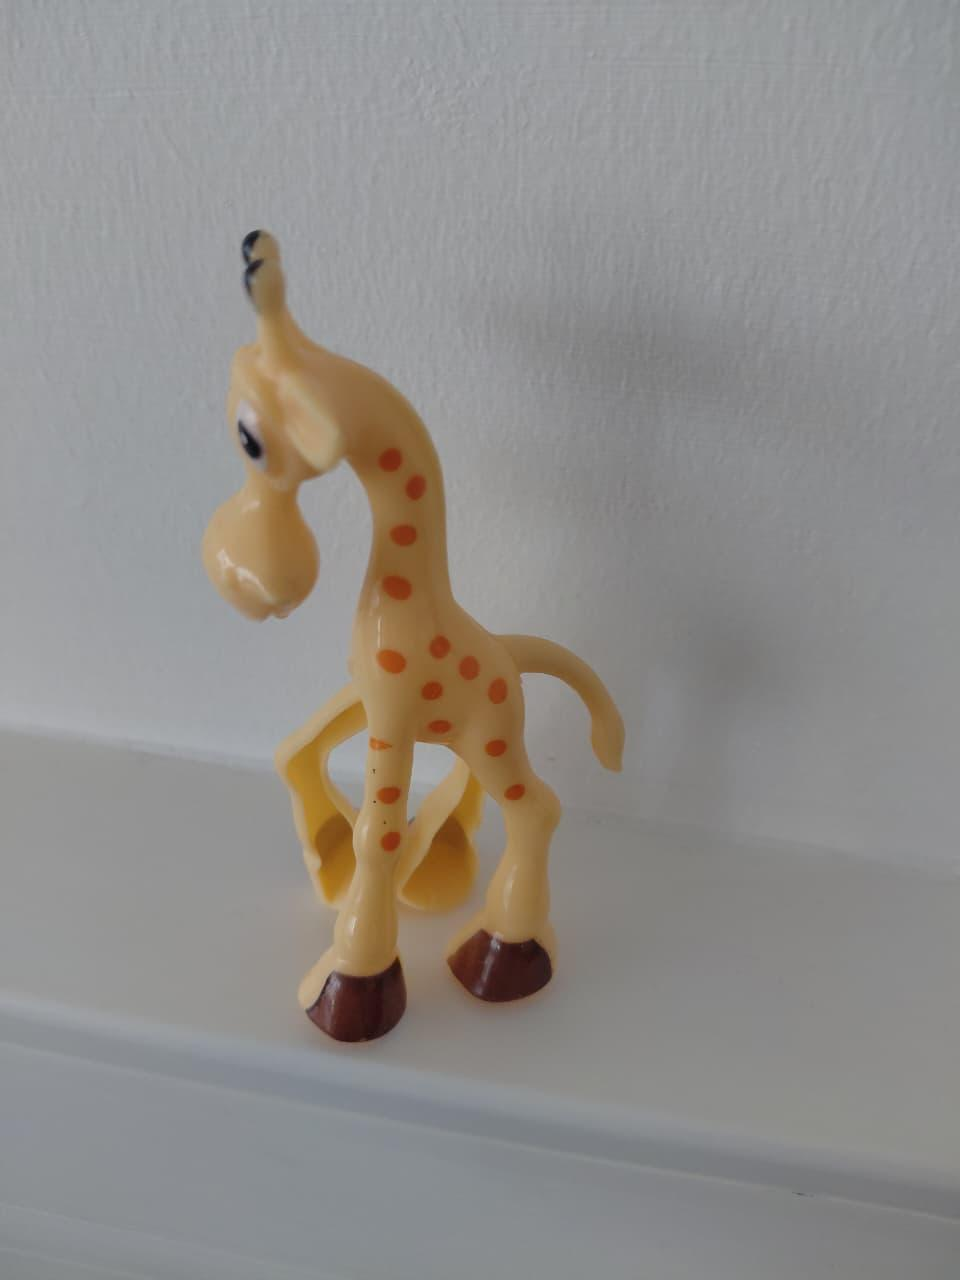giraffe: (147, 153, 648, 1062)
